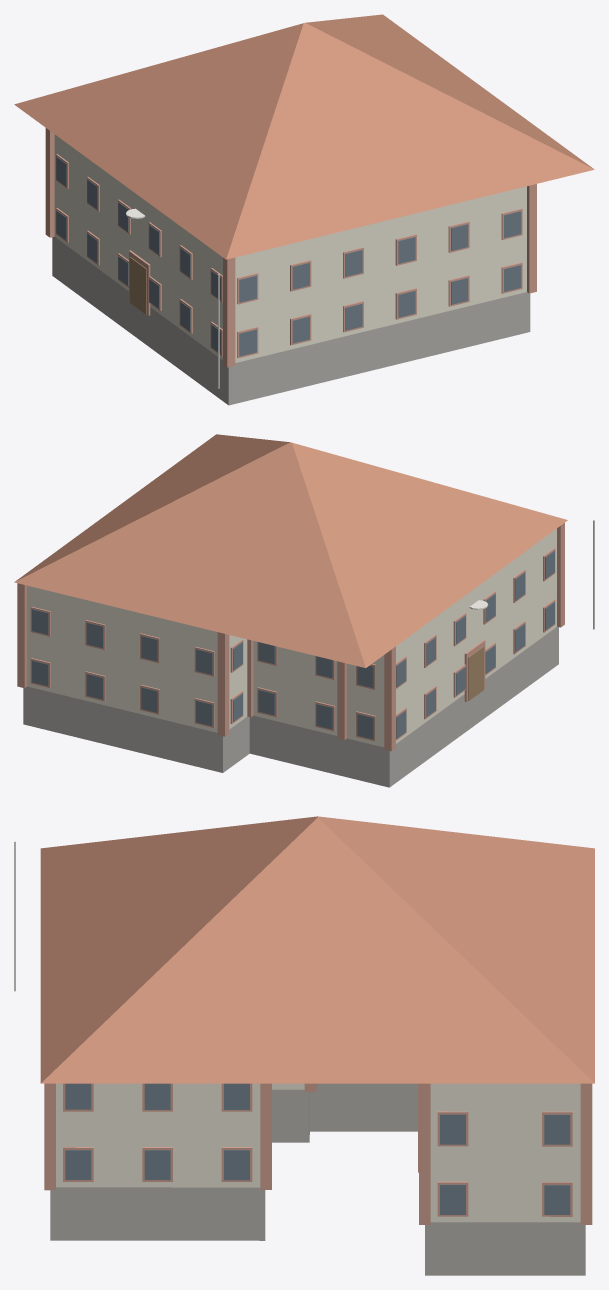
Rendered from townhall-30483981.glb.
3 views of the same model, one above another, from view 1: azimuth 30°, elevation 25°; view 2: azimuth 150°, elevation 25°; view 3: azimuth 270°, elevation 25° (orthographic). The views are drawn at different scales.
Parts seen in each view (by area): view 1: building; view 2: building; view 3: building.
Part boxes in pixels (bbox=[...]): building: bbox=[14, 14, 594, 405]; building: bbox=[14, 434, 594, 787]; building: bbox=[14, 816, 594, 1275].
Bounding box in the file's own units: 24.82 × 16.2 × 24.72.
